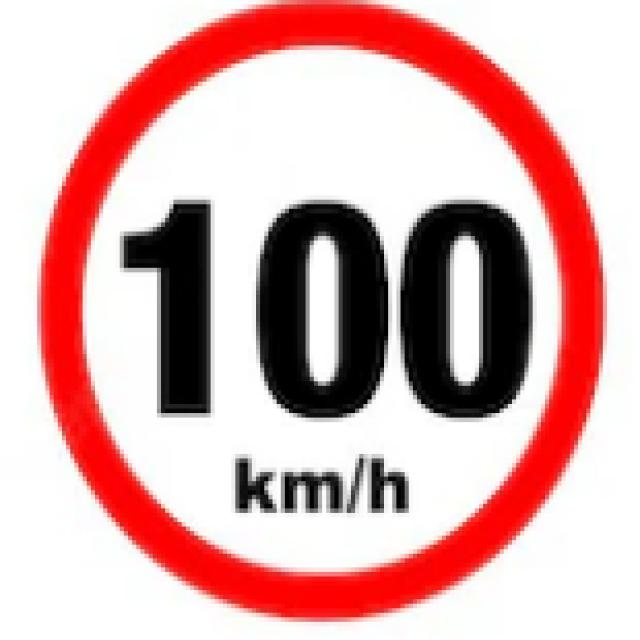Speed Limit -100-: (113, 196, 542, 426)
